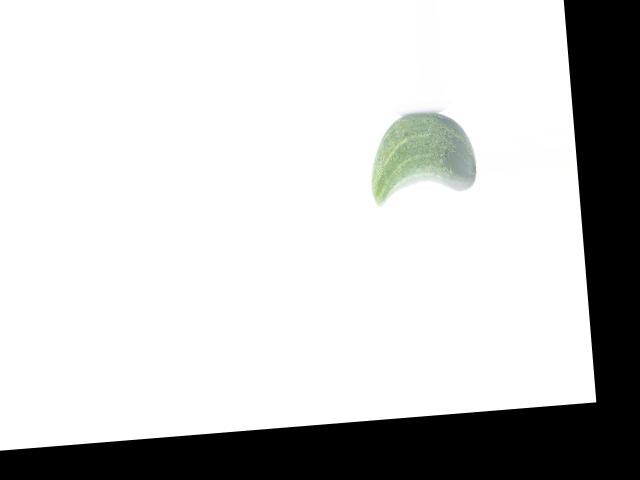cucumber: (364, 108, 478, 206)
